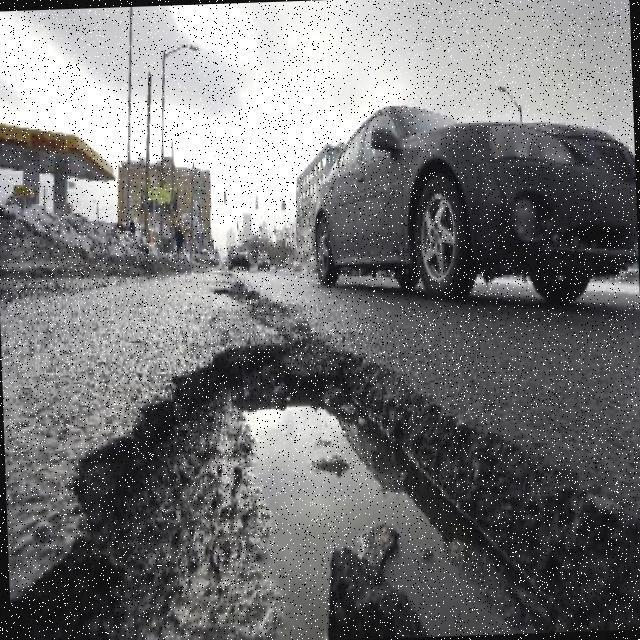Pothole: (11, 340, 640, 640)
